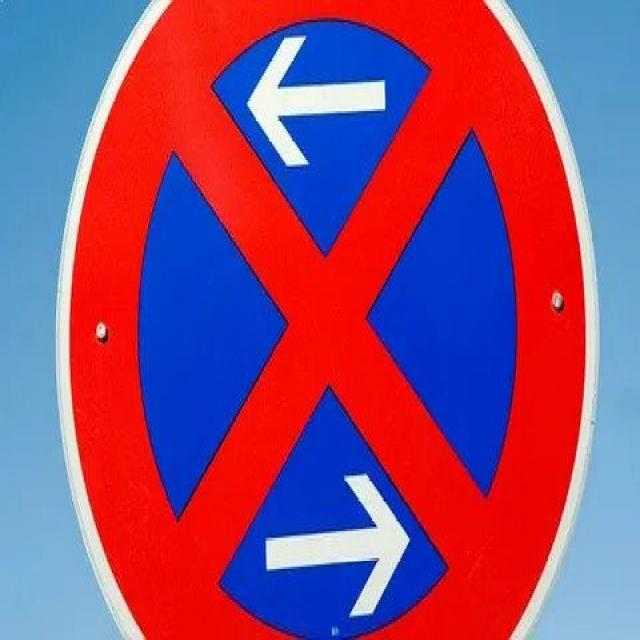no stopping: (51, 0, 604, 640)
